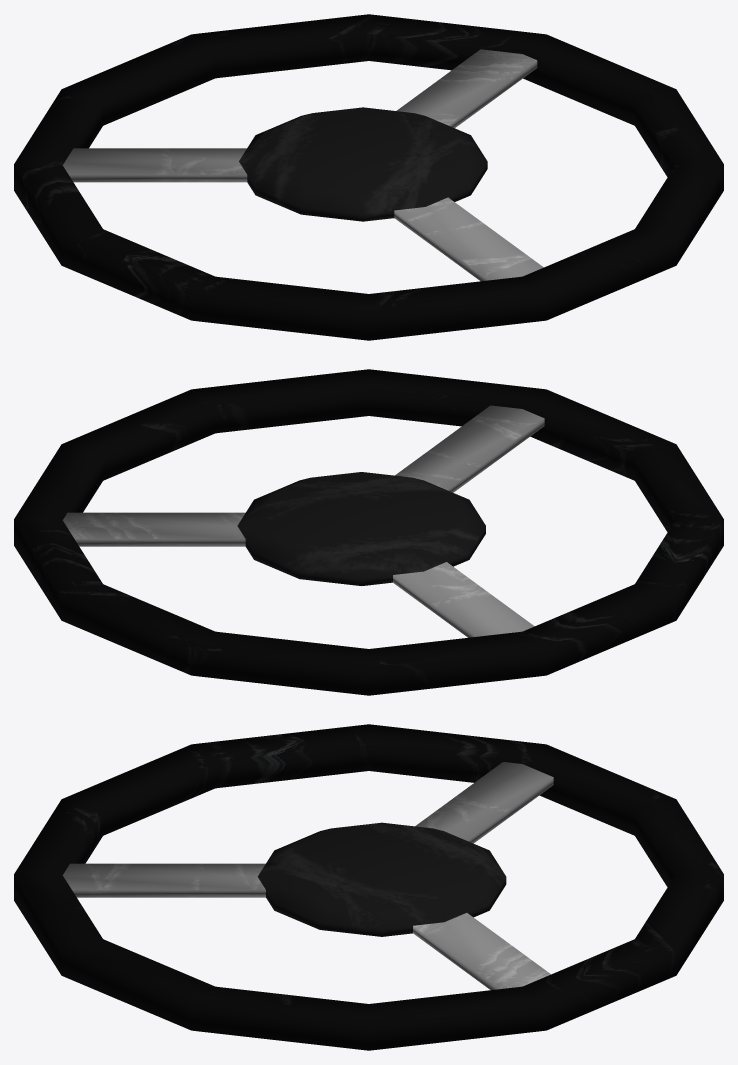
The model's file is Volante.fbx.
The picture shows the model from 3 angles, top to bottom: view 1: azimuth 30°, elevation 25°; view 2: azimuth 150°, elevation 25°; view 3: azimuth 270°, elevation 25°; orthographic projection.
Visible parts, largest first — view 1: VolanteQuebrado; view 2: VolanteQuebrado; view 3: VolanteQuebrado.
Boxes of the visible parts, x1,y1,x2,y2 form: VolanteQuebrado: [14, 14, 723, 340]; VolanteQuebrado: [14, 369, 723, 695]; VolanteQuebrado: [14, 724, 723, 1050].
Size of the model in its own units: 49.34 by 2.71 by 49.34.
